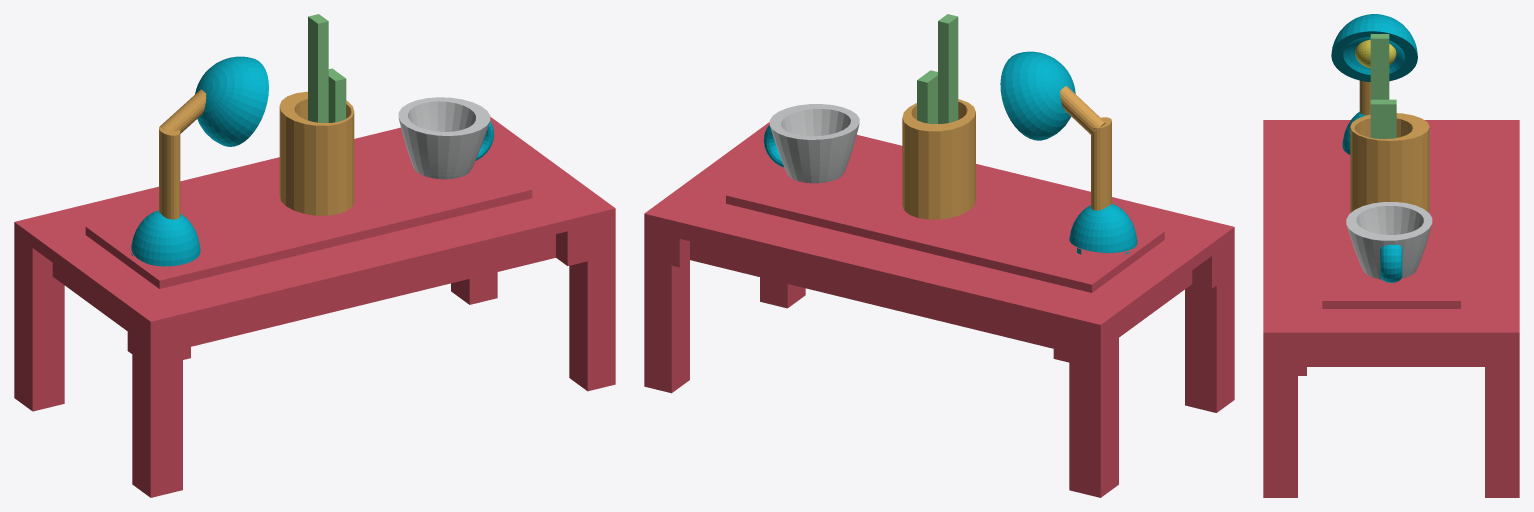
The model's file is table.glb.
3 views of the same model, side by side, from view 1: azimuth 30°, elevation 25°; view 2: azimuth 150°, elevation 25°; view 3: azimuth 270°, elevation 25° (orthographic). The views are drawn at different scales.
Visible parts, largest first — view 1: Mesh_Mesh_head_geo.001_lambert2SG.001; view 2: Mesh_Mesh_head_geo.001_lambert2SG.001; view 3: Mesh_Mesh_head_geo.001_lambert2SG.001.
Boxes of the visible parts, x1,y1,x2,y2 form: Mesh_Mesh_head_geo.001_lambert2SG.001: (14,14,615,497); Mesh_Mesh_head_geo.001_lambert2SG.001: (644,14,1234,497); Mesh_Mesh_head_geo.001_lambert2SG.001: (1263,14,1519,497).
Size of the model in its own units: 116 by 90 by 59.
